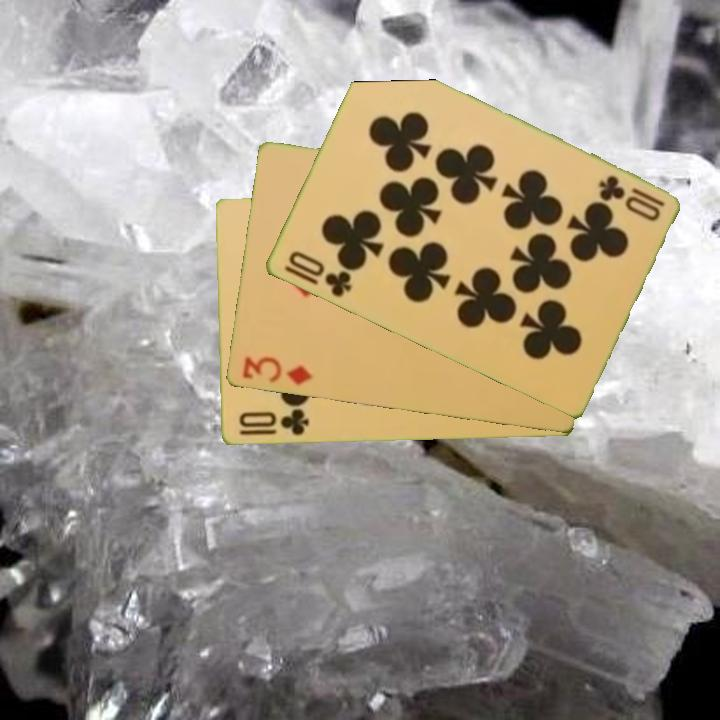10c: (284, 247, 354, 301), (594, 172, 668, 210), (235, 405, 311, 439)
3d: (239, 353, 315, 389)
